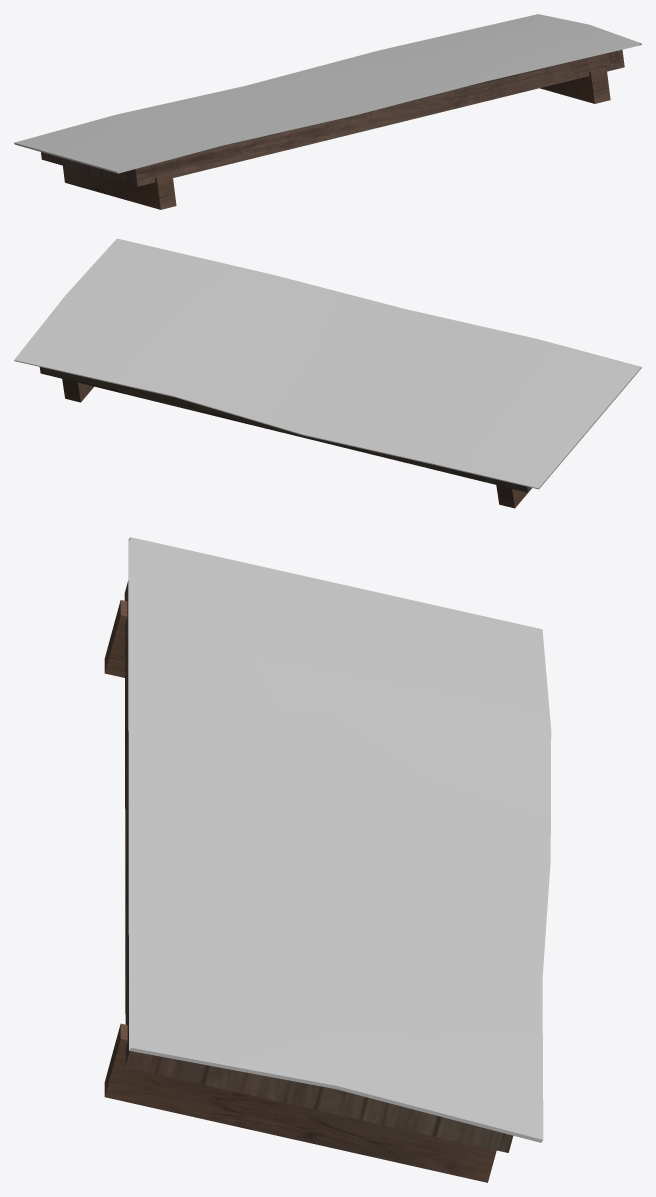
File: jovhouse_sunshade02bb.fbx
3 views of the same model, one above another, from view 1: azimuth 30°, elevation 25°; view 2: azimuth 150°, elevation 25°; view 3: azimuth 270°, elevation 25° (orthographic). The views are drawn at different scales.
Parts seen in each view (by area): view 1: jovhouse_sunshade02bb; view 2: jovhouse_sunshade02bb; view 3: jovhouse_sunshade02bb.
Part boxes in pixels (left/top/right/bottom): jovhouse_sunshade02bb: left=14, top=14, right=641, bottom=209; jovhouse_sunshade02bb: left=14, top=238, right=641, bottom=508; jovhouse_sunshade02bb: left=104, top=537, right=551, bottom=1182.
Size of the model in its own units: 214 by 34.28 by 78.98.
